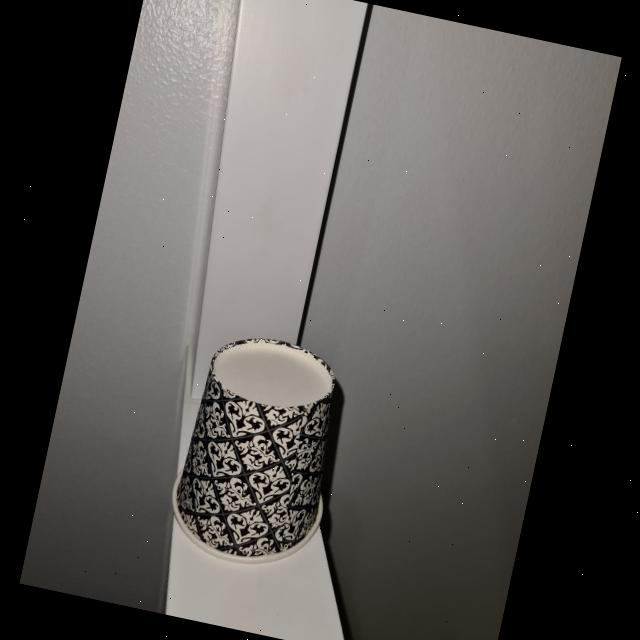trash: (156, 321, 361, 573)
